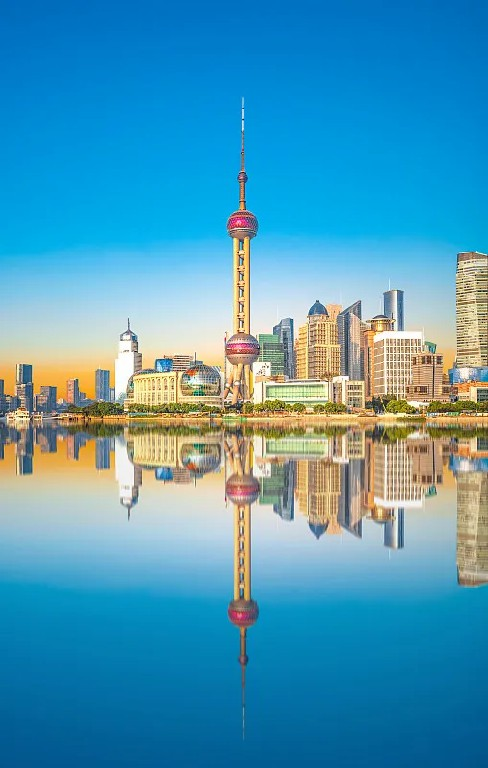Oriental: (222, 96, 261, 404)
